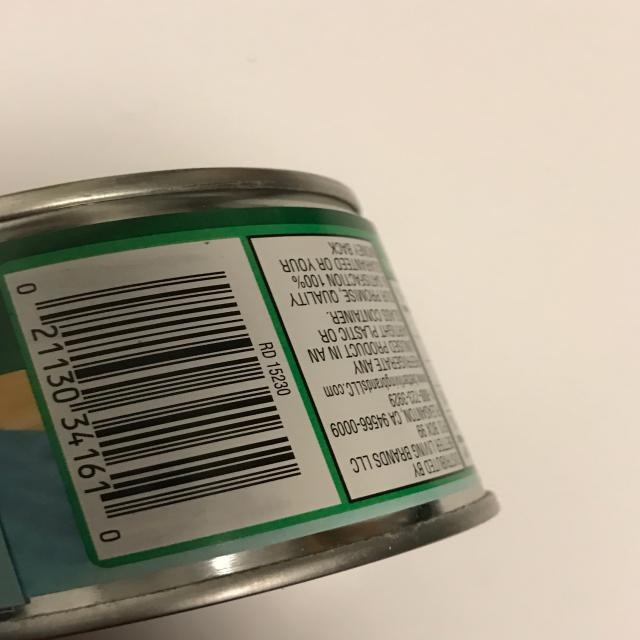metal: (1, 165, 501, 638)
